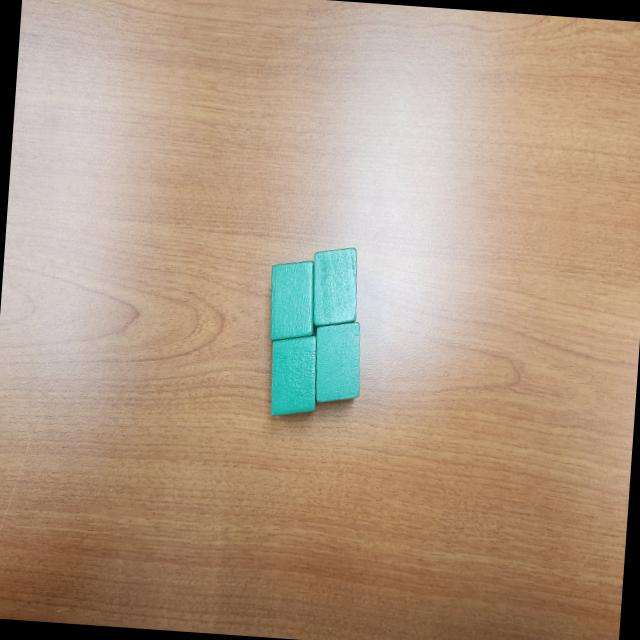green: (264, 330, 320, 419), (308, 318, 364, 406), (265, 256, 319, 344), (308, 244, 362, 330)
